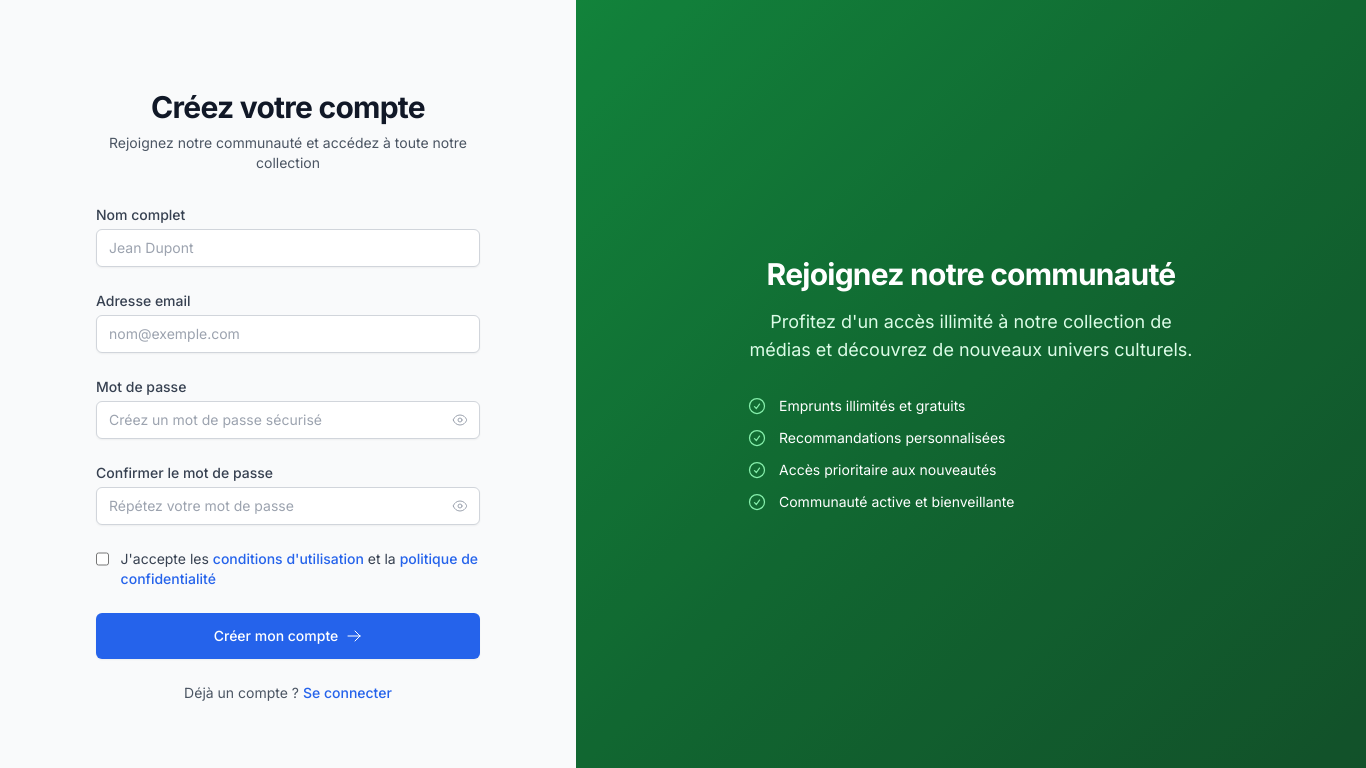
RegisterPage › Validation des champs › affiche une erreur si le mot de passe est trop court
The width and height of the screenshot is (1366, 768).
Type "123" into the password field with placeholder "Créez un mot de passe sécurisé" at (288, 420), box [96,401,480,439]
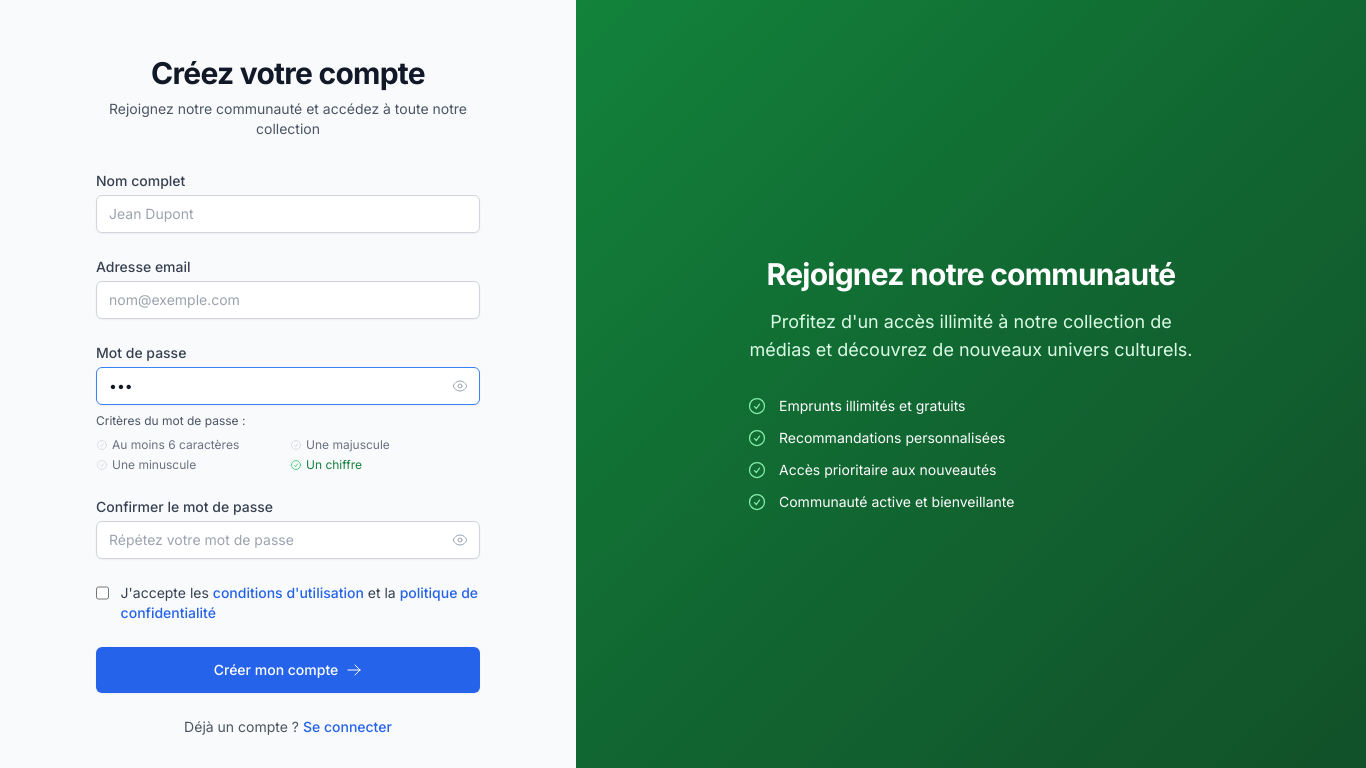
Note: Cocher les conditions d'utilisation
Click the checkbox labelled "J'accepte les conditions d'utilisation" at (102, 593), box [96,585,109,601]
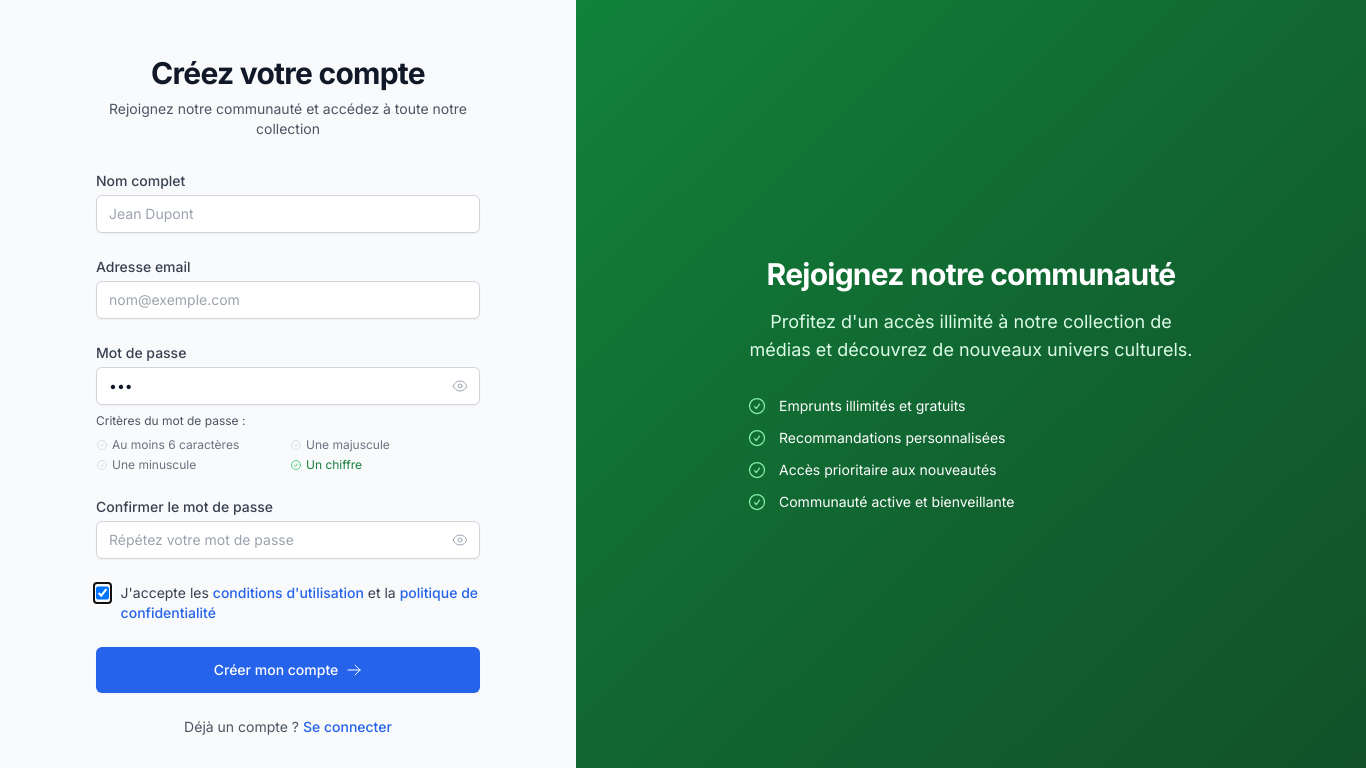
Click the button "Créer mon compte" at (288, 670), box [96,647,480,693]
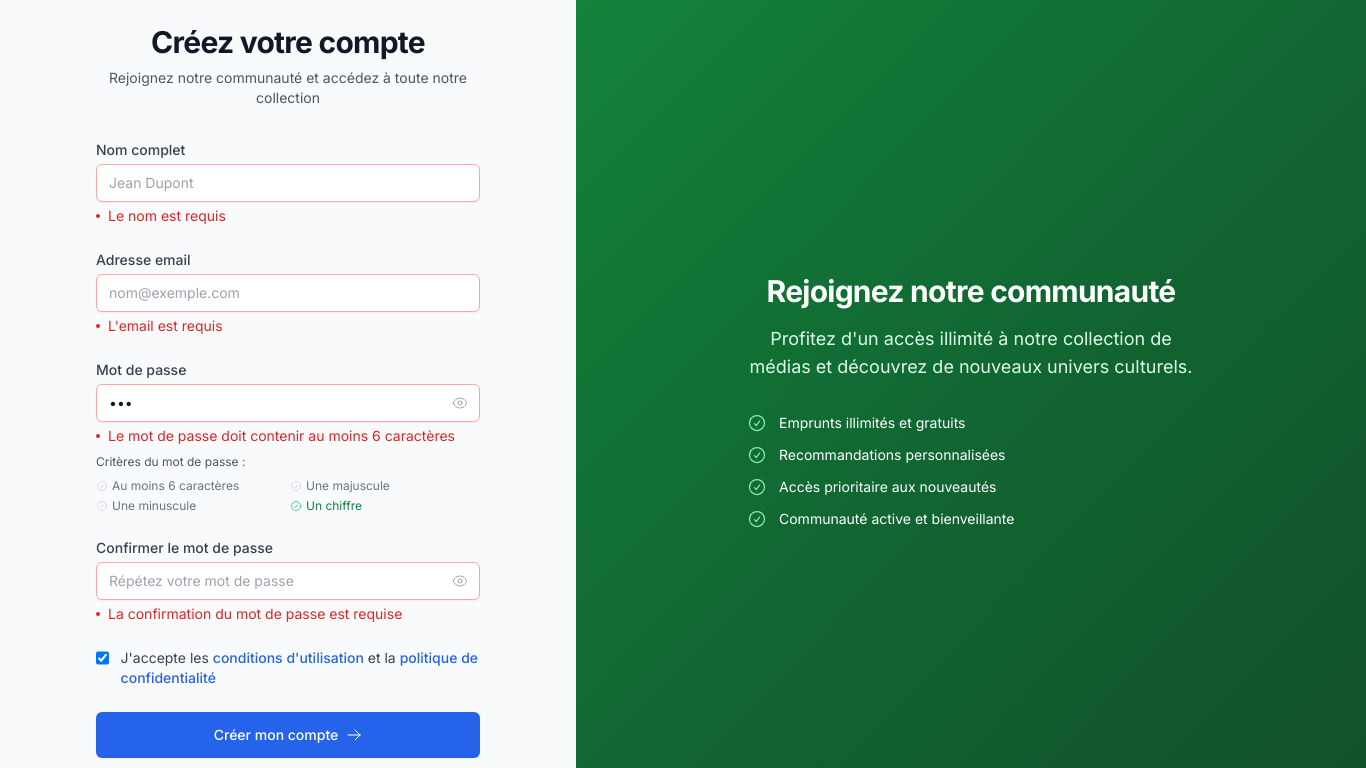
Expected: the text "Le mot de passe doit contenir au moins 6 caractères" is shown, [96,426,480,446]
